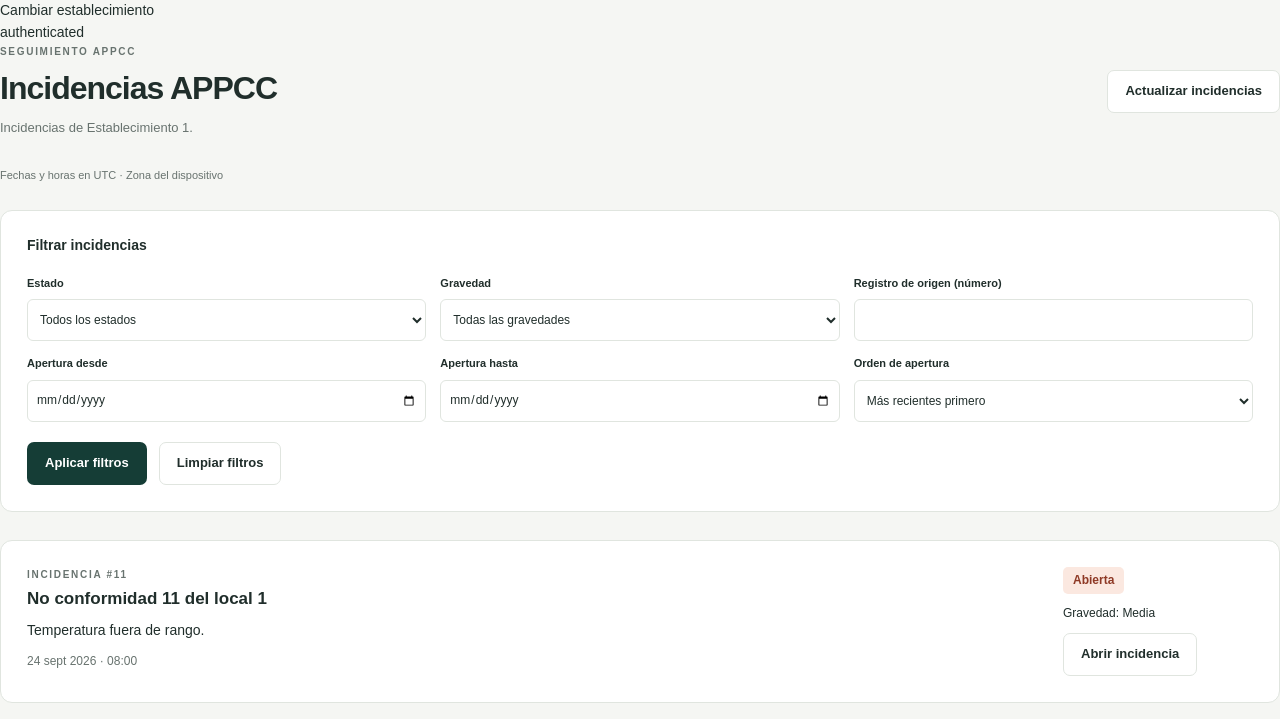
Test case: admin: consulta y permisos exactos en detalle
Step 1. Click the button with aria-label "Abrir incidencia #11" → (1130, 654), box [1063,633,1197,676]
(page scrolled)
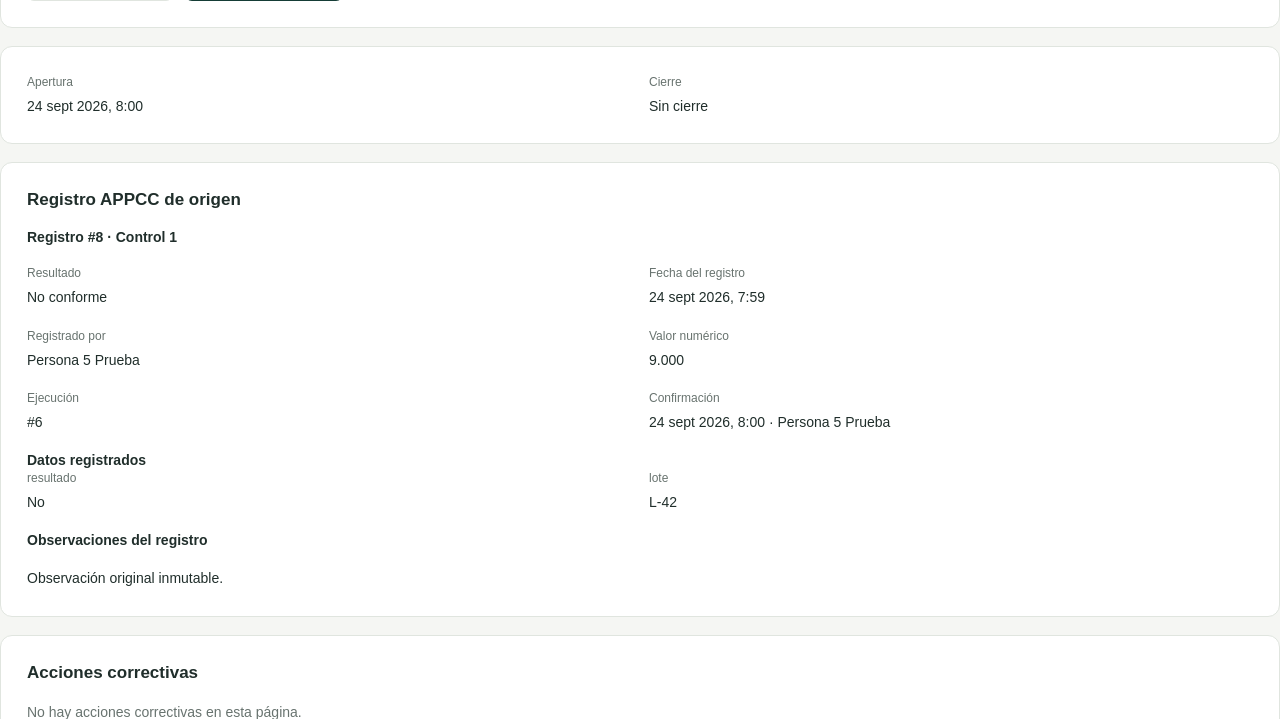
Check: the element "Registro APPCC de origen" is shown
Check: the text "Observación original inmutable." is shown, box [27,570,223,586]
Check: the text "9.000" is shown, box [649,352,684,368]
